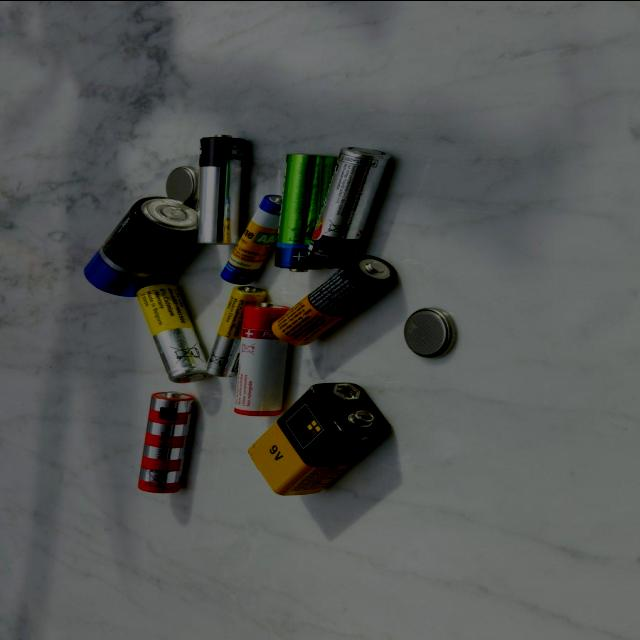9V: (245, 379, 394, 499)
AA: (270, 252, 398, 347), (303, 144, 398, 270), (134, 281, 216, 385), (274, 150, 340, 272), (233, 300, 291, 418), (217, 191, 285, 285), (193, 131, 249, 245), (136, 389, 196, 495), (203, 284, 270, 378)
COIN: (402, 305, 456, 358), (164, 164, 200, 205)
